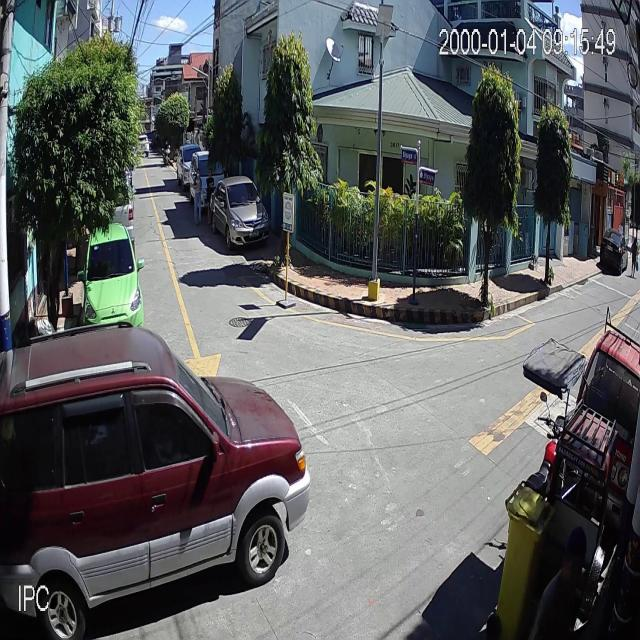walking: (530, 527, 582, 640)
